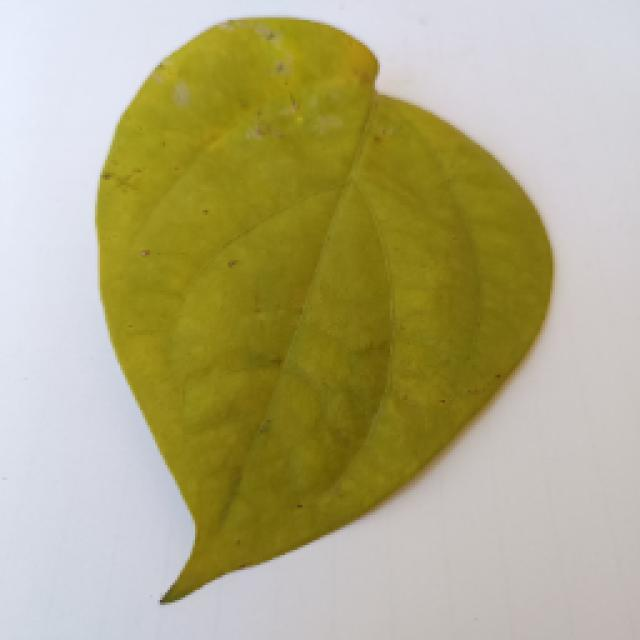slow-decline: (78, 25, 592, 610)
